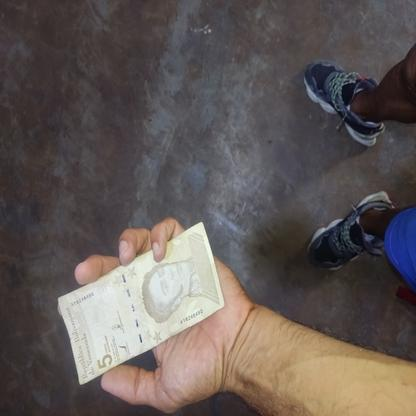five-front-vef: (58, 221, 226, 385)
